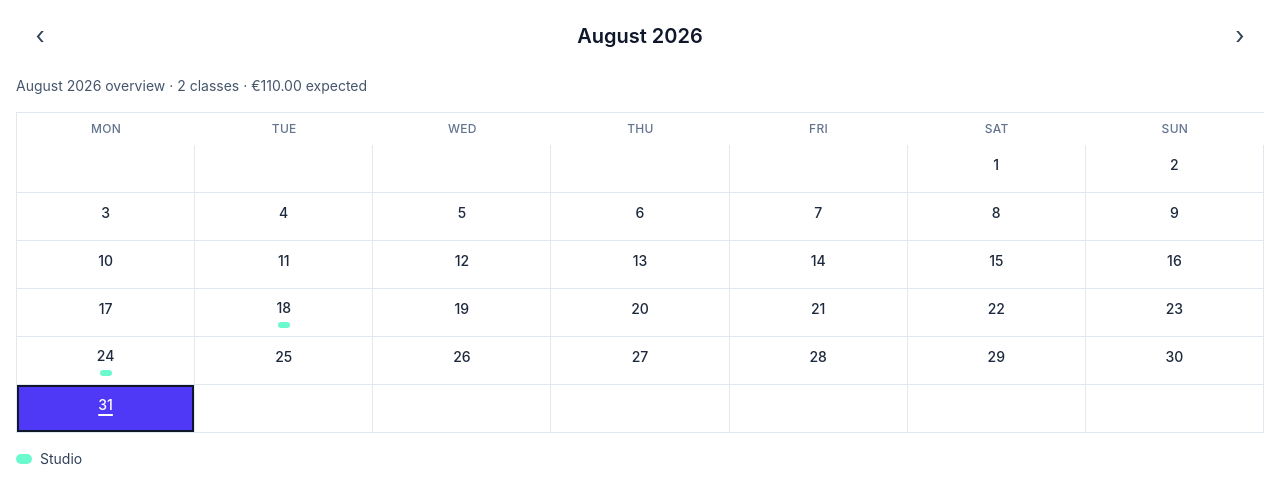
it: CalendarTab mobile presentation › preserves a valid day when month navigation reaches a shorter month
Click the button "›": (1240, 36) [1216,12,1264,60]
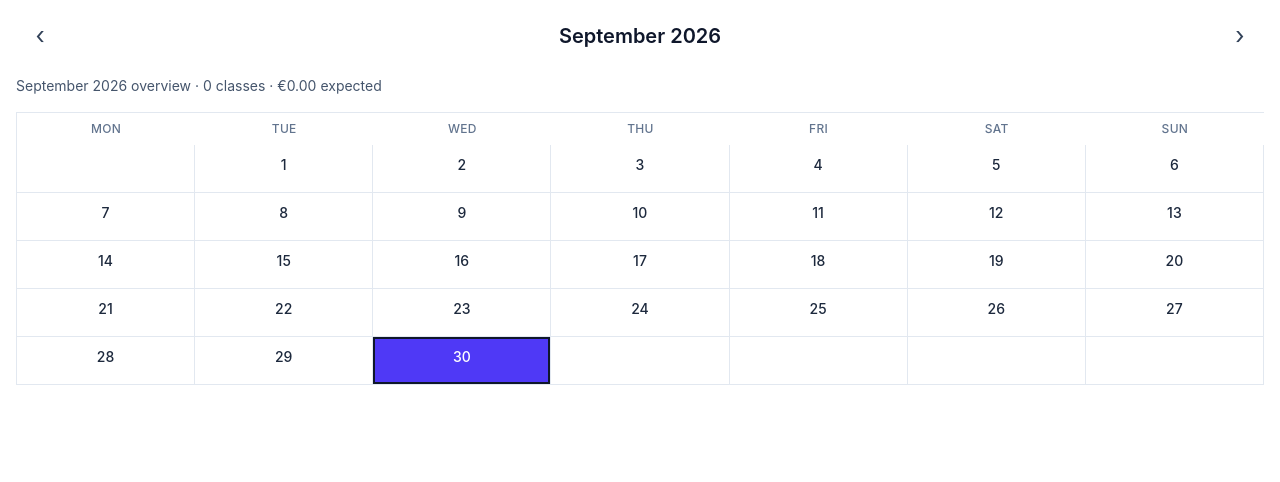
Now the text "September 2026" is shown, box [559,22,721,50]
